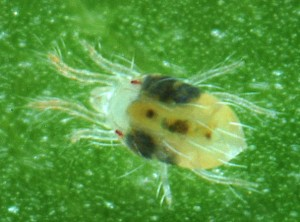Mites: (26, 42, 278, 214)
